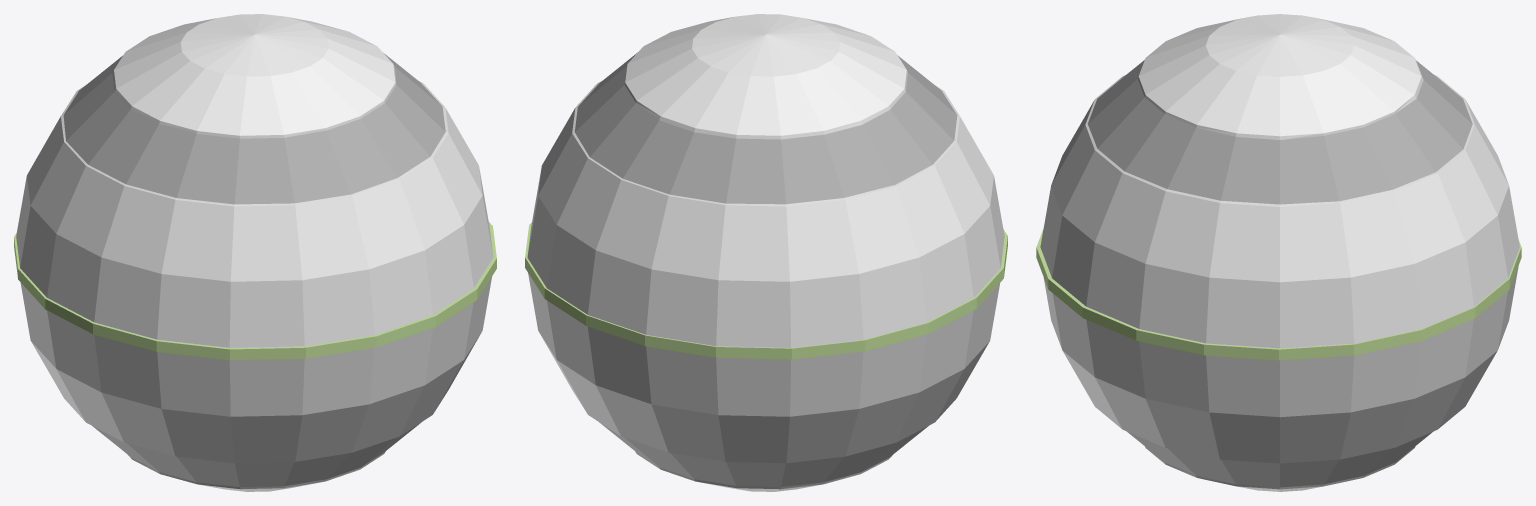
The picture shows the model from 3 angles, left to right: view 1: azimuth 30°, elevation 25°; view 2: azimuth 150°, elevation 25°; view 3: azimuth 270°, elevation 25°; orthographic projection.
Parts seen in each view (by area): view 1: Cylinder_5; view 2: Cylinder_5; view 3: Cylinder_5.
Boxes of the visible parts, x1=… form: Cylinder_5: x1=14, y1=14, x2=496, y2=491; Cylinder_5: x1=525, y1=14, x2=1007, y2=491; Cylinder_5: x1=1036, y1=14, x2=1521, y2=491.
Bounding box in the file's own units: 1015 × 1007 × 1015.
